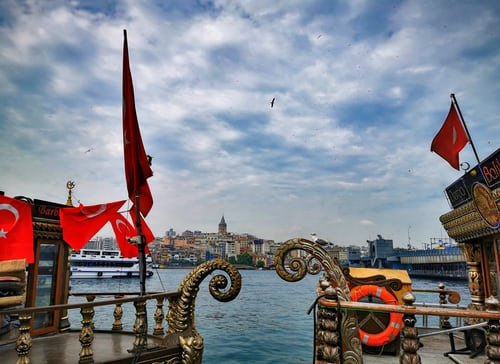Flag: (123, 29, 156, 216), (430, 98, 469, 173)
